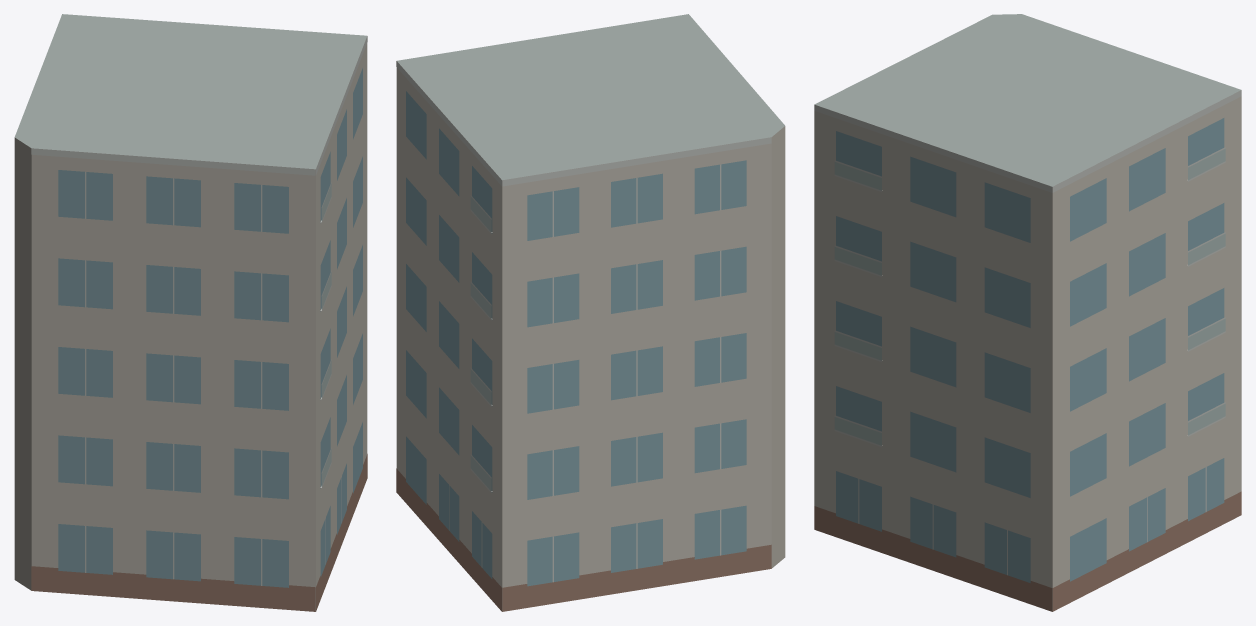
File: survey-upis-32997738.glb
3 views of the same model, side by side, from view 1: azimuth 30°, elevation 25°; view 2: azimuth 150°, elevation 25°; view 3: azimuth 270°, elevation 25° (orthographic). The views are drawn at different scales.
Visible parts, largest first — view 1: survey-upis-32997738.tmp; view 2: survey-upis-32997738.tmp; view 3: survey-upis-32997738.tmp.
Boxes of the visible parts, x1,y1,x2,y2 form: survey-upis-32997738.tmp: (14, 14, 367, 611); survey-upis-32997738.tmp: (396, 14, 785, 611); survey-upis-32997738.tmp: (814, 14, 1241, 611).
Bounding box in the file's own units: 14.57 × 16.7 × 15.23.
